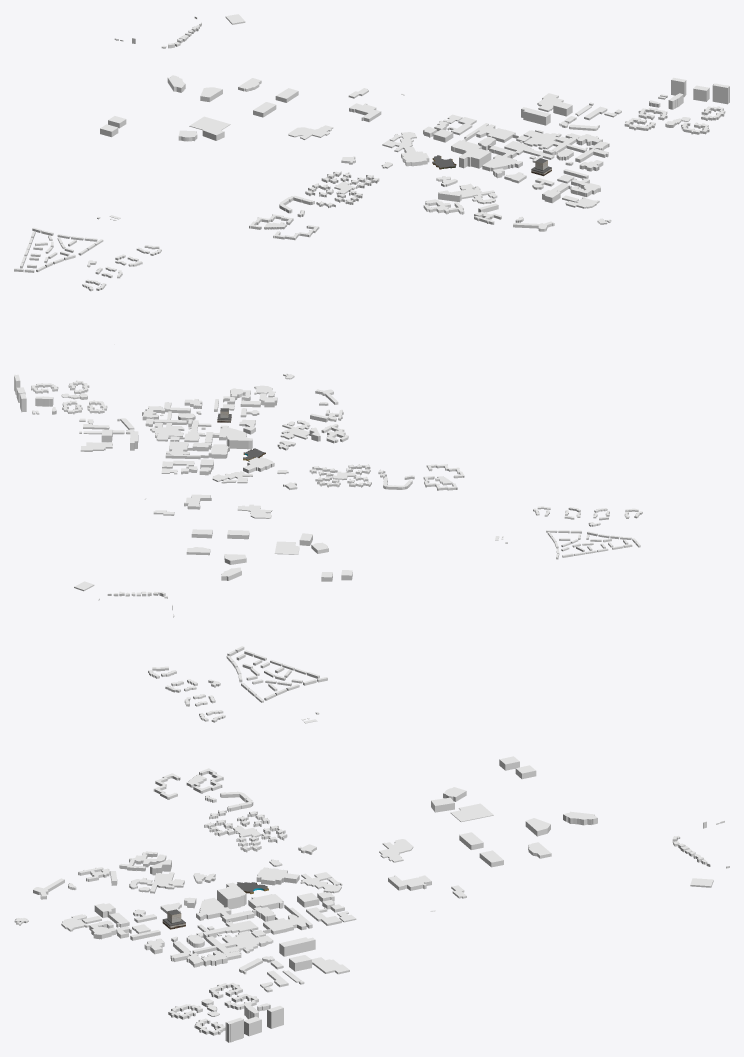
File: campus.gltf
The picture shows the model from 3 angles, top to bottom: view 1: azimuth 30°, elevation 25°; view 2: azimuth 150°, elevation 25°; view 3: azimuth 270°, elevation 25°; orthographic projection. The views are drawn at different scales.
Parts seen in each view (by area): view 1: SketchUp; view 2: SketchUp; view 3: SketchUp.
Part boxes in pixels (x1=…): SketchUp: x1=14, y1=14, x2=729, y2=291; SketchUp: x1=14, y1=373, x2=642, y2=617; SketchUp: x1=14, y1=646, x2=729, y2=1042.
Bounding box in the file's own units: 2681 × 59 × 2058.
Materials: 226 (22 with a texture image).
